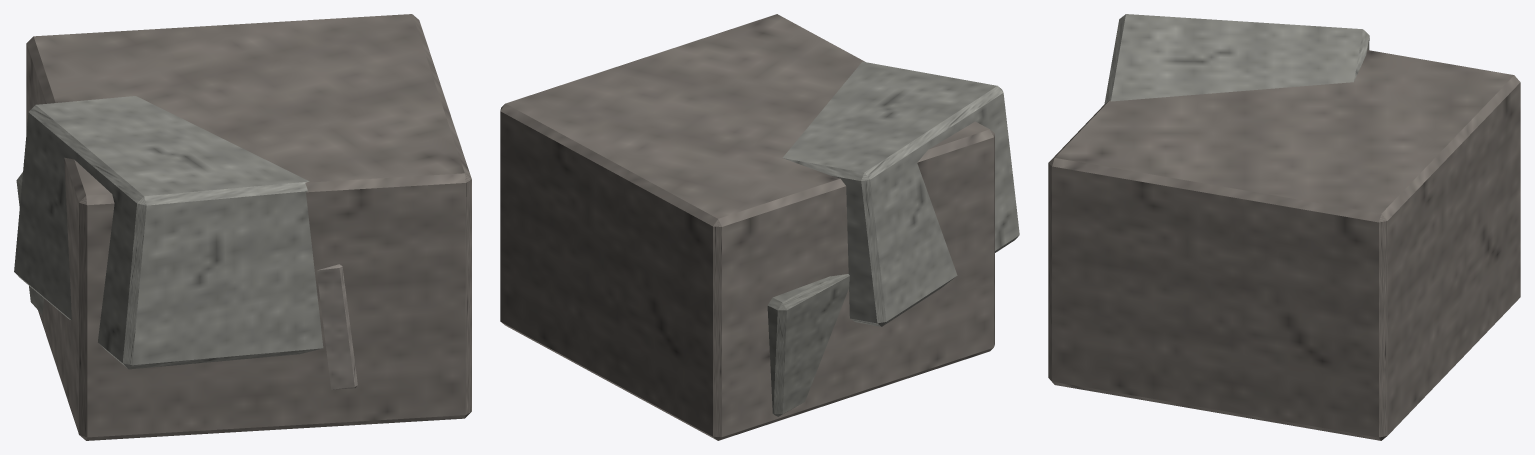
File: Rocher_Moyen_A.obj
3 renders of one model, left to right at view 1: azimuth 30°, elevation 25°; view 2: azimuth 150°, elevation 25°; view 3: azimuth 270°, elevation 25°, orthographic. The views are drawn at different scales.
Visible parts, largest first — view 1: Rocher_Moyen_A; view 2: Rocher_Moyen_A; view 3: Rocher_Moyen_A.
Part boxes in pixels (x1,y1,x2,y2): Rocher_Moyen_A: [14, 14, 471, 440]; Rocher_Moyen_A: [500, 14, 1019, 440]; Rocher_Moyen_A: [1048, 14, 1520, 440].
Bounding box in the file's own units: 4.24 × 2.41 × 4.23.
1 material, 1 textured.
